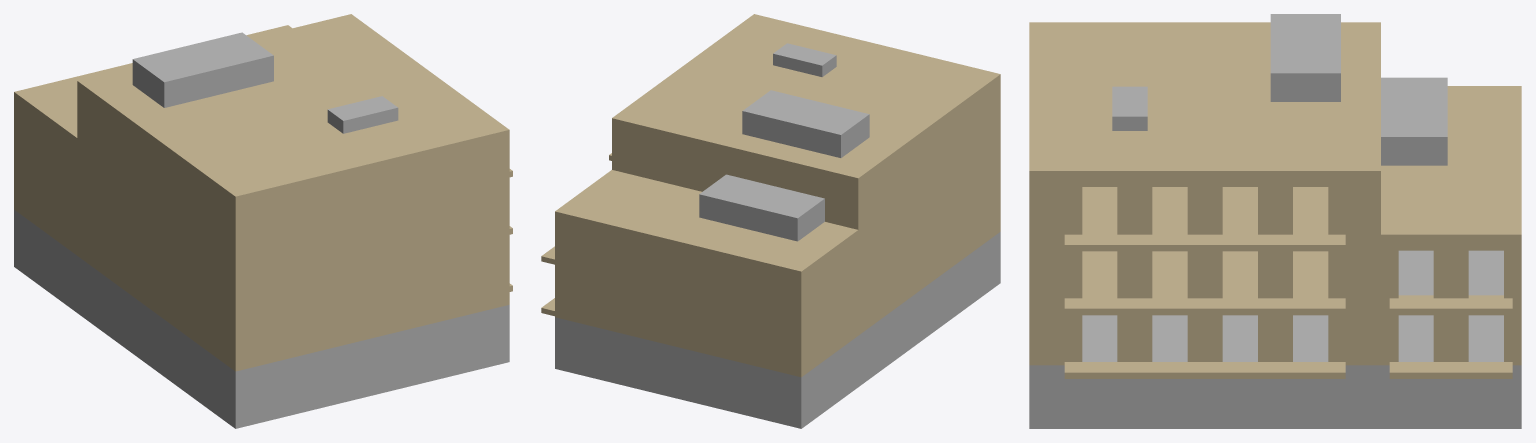
File: Flat3.fbx
The picture shows the model from 3 angles, left to right: view 1: azimuth 30°, elevation 25°; view 2: azimuth 150°, elevation 25°; view 3: azimuth 270°, elevation 25°; orthographic projection. The views are drawn at different scales.
Parts seen in each view (by area): view 1: Cube.006, Cube.003, Cube, Cube.007, Cube.030, Cube.025, Cube.031, Cube.004, Cube.005; view 2: Cube.003, Cube.029, Cube, Cube.007, Cube.031, Cube.005, Cube.030, Cube.025, Cube.032, Cube.004, Cube.037, Cube.006; view 3: Cube.003, Cube, Cube.031, Cube.010, Cube.012, Cube.002, Cube.001, Cube.025, Cube.032, Cube.009, Cube.008, Cube.011 (+16 smaller).
Boxes of the visible parts, left/top/right/bottom form: Cube.006: left=232, top=135, right=509, bottom=371; Cube.003: left=77, top=14, right=509, bottom=202; Cube: left=14, top=209, right=509, bottom=428; Cube.007: left=80, top=89, right=232, bottom=368; Cube.030: left=14, top=95, right=77, bottom=255; Cube.025: left=132, top=32, right=273, bottom=107; Cube.031: left=14, top=25, right=291, bottom=140; Cube.004: left=327, top=96, right=398, bottom=133; Cube.005: left=77, top=85, right=80, bottom=257; Cube.003: left=612, top=14, right=1000, bottom=182; Cube.029: left=560, top=218, right=804, bottom=376; Cube: left=555, top=232, right=1000, bottom=428; Cube.007: left=861, top=81, right=997, bottom=333; Cube.031: left=555, top=170, right=858, bottom=275; Cube.005: left=612, top=121, right=861, bottom=335; Cube.030: left=796, top=233, right=858, bottom=377; Cube.025: left=742, top=90, right=869, bottom=157; Cube.032: left=699, top=174, right=824, bottom=241; Cube.004: left=773, top=43, right=836, bottom=76; Cube.037: left=555, top=214, right=559, bottom=318; Cube.006: left=998, top=77, right=1000, bottom=233; Cube.003: left=1029, top=22, right=1380, bottom=177; Cube: left=1029, top=250, right=1521, bottom=428; Cube.031: left=1381, top=86, right=1521, bottom=240; Cube.010: left=1033, top=174, right=1082, bottom=365; Cube.012: left=1328, top=174, right=1377, bottom=365; Cube.002: left=1082, top=187, right=1328, bottom=231; Cube.001: left=1082, top=251, right=1328, bottom=295; Cube.025: left=1270, top=14, right=1340, bottom=101; Cube.032: left=1381, top=77, right=1447, bottom=165; Cube.009: left=1117, top=174, right=1152, bottom=361; Cube.008: left=1187, top=174, right=1222, bottom=361; Cube.011: left=1258, top=174, right=1292, bottom=361.
Size of the model in its own units: 1070 by 900 by 1400.
